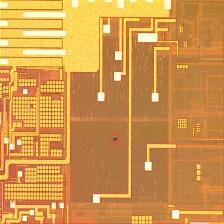PIQ PARTICLE: (111, 134, 123, 146)
